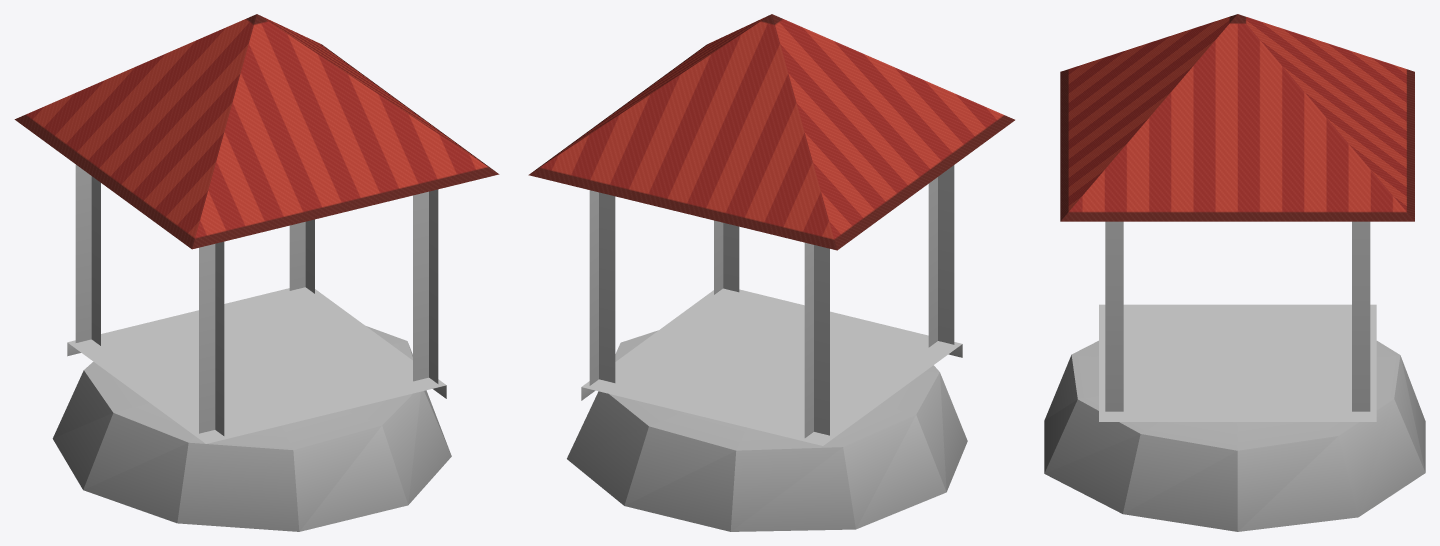
The model's file is lookout.glb.
3 renders of one model, left to right at view 1: azimuth 30°, elevation 25°; view 2: azimuth 150°, elevation 25°; view 3: azimuth 270°, elevation 25°, orthographic.
Visible parts, largest first — view 1: model; view 2: model; view 3: model.
Part boxes in pixels (x1,y1,x2,y2): model: (14,14,499,531); model: (528,14,1014,531); model: (1044,14,1425,531).
Bounding box in the file's own units: 5.2 × 6.2 × 4.95.
5 materials, 1 textured.
